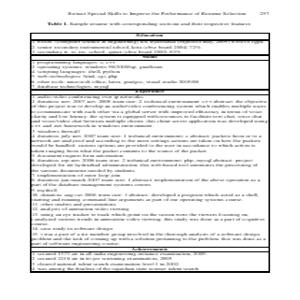diagram: (28, 33, 271, 274)
text: (33, 7, 255, 29)
